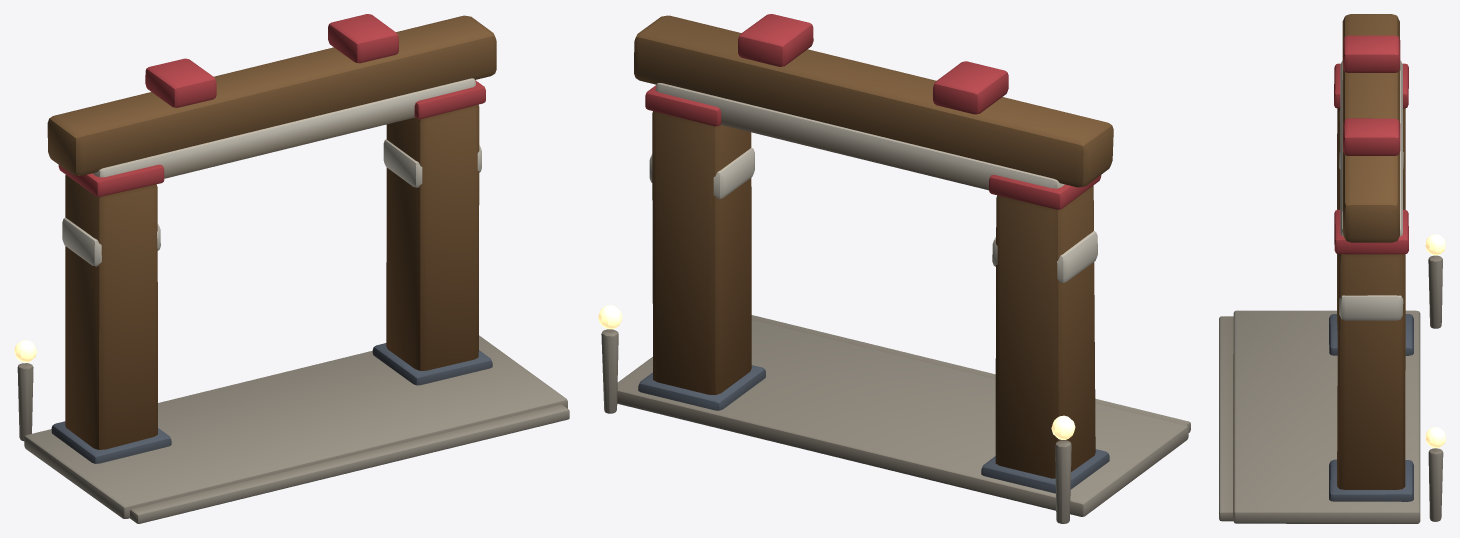
The picture shows the model from 3 angles, left to right: view 1: azimuth 30°, elevation 25°; view 2: azimuth 150°, elevation 25°; view 3: azimuth 270°, elevation 25°; orthographic projection. The views are drawn at different scales.
Visible parts, largest first — view 1: gate_b7c3e551; view 2: gate_b7c3e551; view 3: gate_b7c3e551.
Part boxes in pixels (x1,y1,x2,y2): gate_b7c3e551: [14, 14, 569, 523]; gate_b7c3e551: [598, 14, 1190, 523]; gate_b7c3e551: [1219, 14, 1445, 523].
Size of the model in its own units: 5.38 by 4.2 by 2.54.
